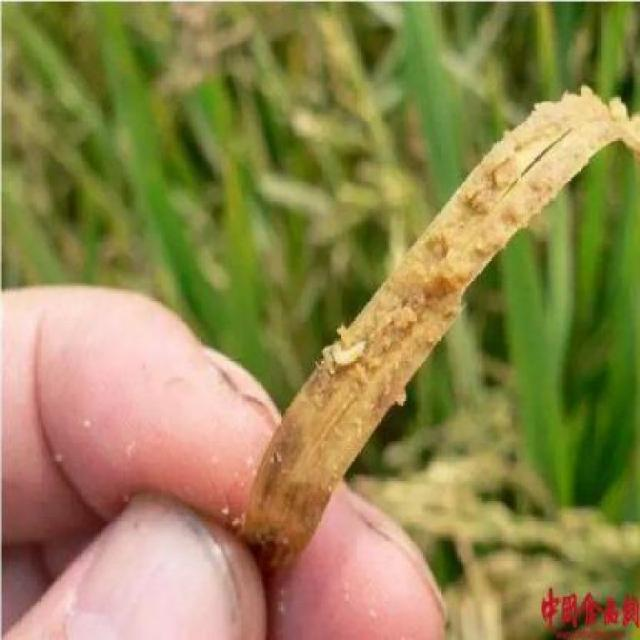whorl-maggot: (324, 324, 374, 376)
